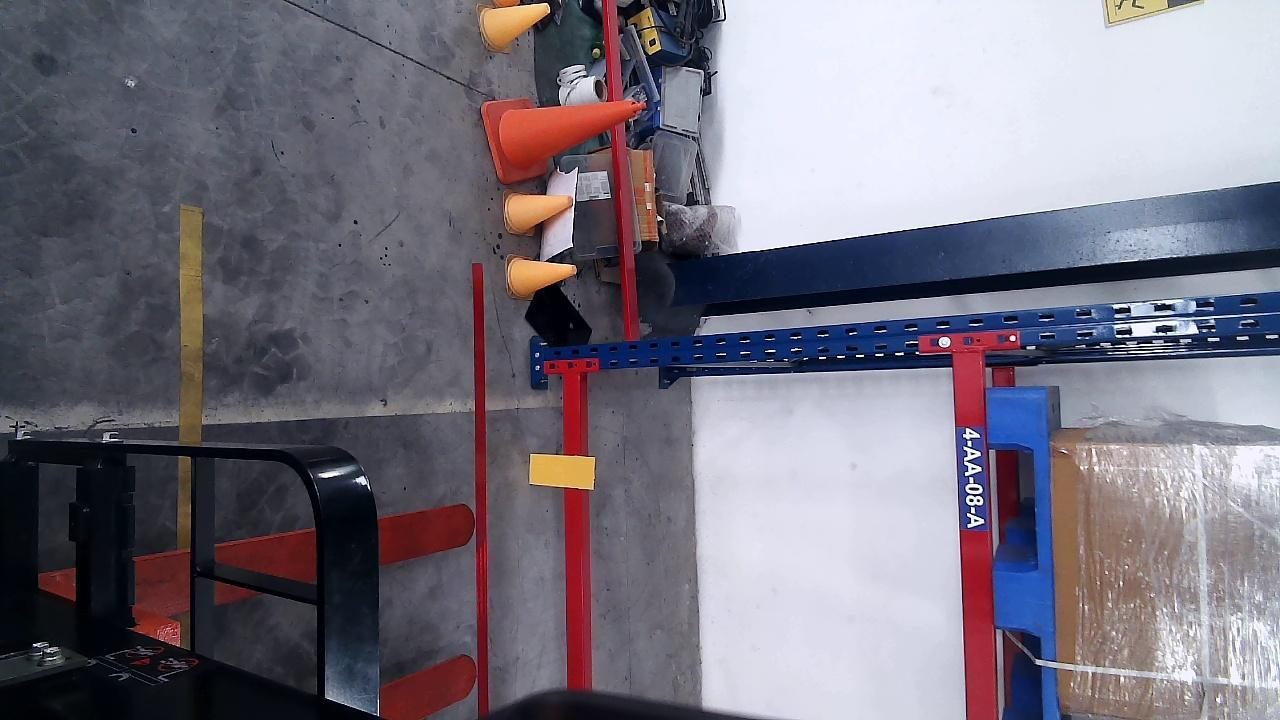h_rack: (952, 351, 1001, 720), (561, 370, 590, 686)
orange_strip: (530, 453, 596, 491)
red_line: (470, 260, 492, 714)
small_pallet: (983, 385, 1057, 719)
yellow_line: (182, 204, 204, 444)
